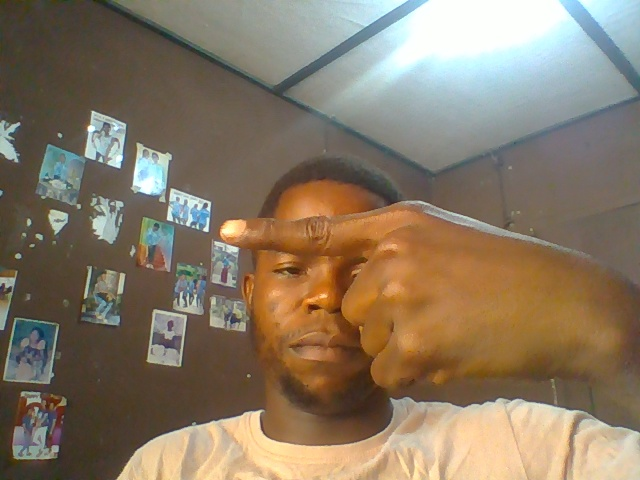Right: (206, 199, 604, 410)
